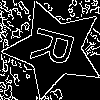R: (29, 24, 85, 71)
